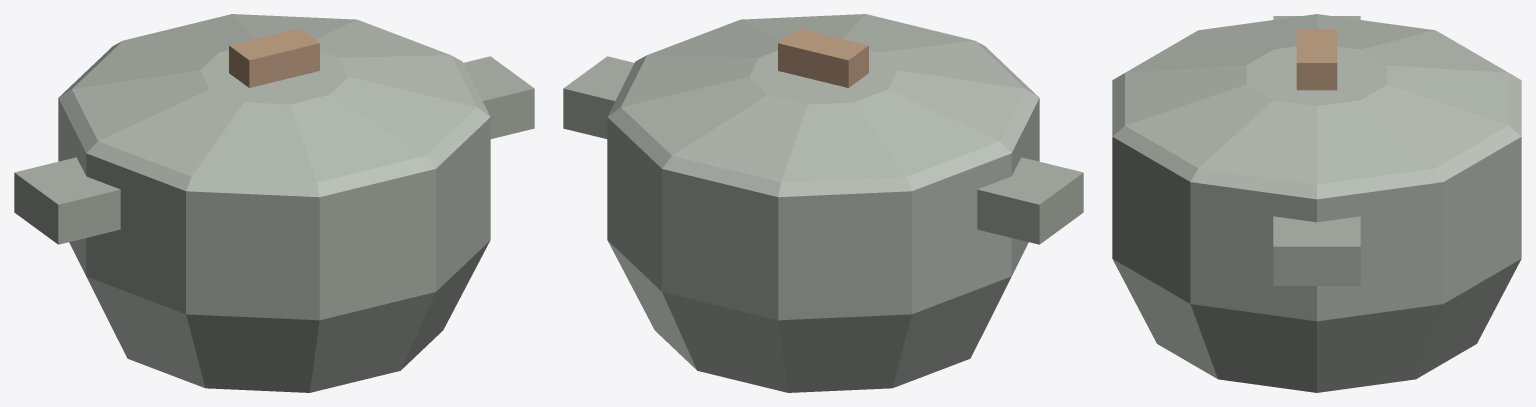
Rendered from crafted-pot-0.glb.
The picture shows the model from 3 angles, left to right: view 1: azimuth 30°, elevation 25°; view 2: azimuth 150°, elevation 25°; view 3: azimuth 270°, elevation 25°; orthographic projection.
Parts seen in each view (by area): view 1: pot, lid, handle, lid-handle, handle-1; view 2: pot, lid, handle, lid-handle, handle-1; view 3: pot, lid, handle-1, lid-handle.
Part boxes in pixels (x1=…): pot: x1=58, y1=98, x2=490, y2=392; lid: x1=58, y1=14, x2=490, y2=197; handle: x1=14, y1=157, x2=120, y2=244; lid-handle: x1=229, y1=28, x2=319, y2=87; handle-1: x1=463, y1=56, x2=534, y2=138; pot: x1=607, y1=98, x2=1039, y2=392; lid: x1=607, y1=14, x2=1039, y2=197; handle: x1=977, y1=157, x2=1083, y2=244; lid-handle: x1=778, y1=28, x2=868, y2=87; handle-1: x1=563, y1=56, x2=634, y2=138; pot: x1=1112, y1=137, x2=1521, y2=392; lid: x1=1112, y1=14, x2=1521, y2=199; handle-1: x1=1273, y1=216, x2=1360, y2=285; lid-handle: x1=1296, y1=29, x2=1337, y2=90.
Bounding box in the file's own units: 0.81 × 0.4525 × 0.6087.
